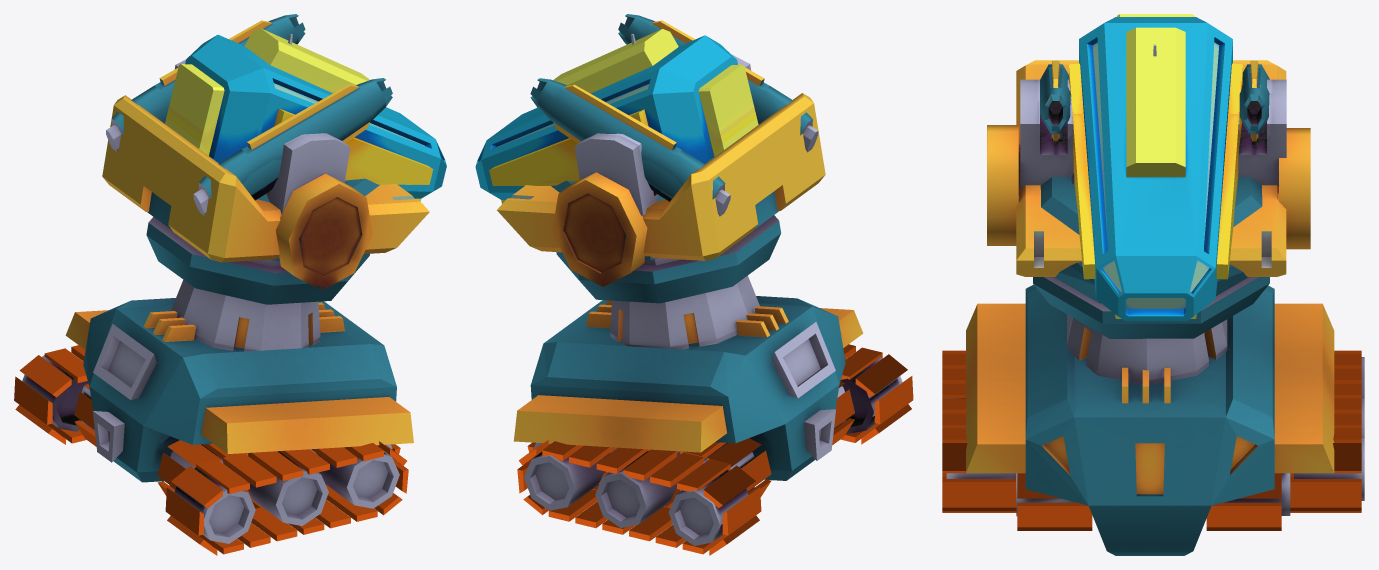
The model's file is Player_move_2_Upgrade7.obj.
The picture shows the model from 3 angles, left to right: view 1: azimuth 30°, elevation 25°; view 2: azimuth 150°, elevation 25°; view 3: azimuth 270°, elevation 25°; orthographic projection. The views are drawn at different scales.
Visible parts, largest first — view 1: Object015, Box020, Object014, Box018, Box019, Box017, Box016; view 2: Object015, Box019, Box018, Object014, Box020, Box016, Box017; view 3: Object015, Box019, Box020, Object014, Box017, Box016, Box018, Box009.
Boxes of the visible parts, x1,y1,x2,y2 form: Object015: [65, 28, 446, 482]; Box020: [165, 441, 408, 555]; Object014: [106, 14, 392, 215]; Box018: [22, 355, 399, 543]; Box019: [14, 345, 87, 444]; Box017: [157, 440, 400, 508]; Box016: [74, 383, 96, 446]; Object015: [475, 29, 863, 480]; Box019: [517, 439, 761, 555]; Box018: [524, 357, 902, 545]; Object014: [530, 14, 818, 216]; Box020: [840, 344, 913, 444]; Box016: [527, 438, 771, 507]; Box017: [832, 381, 854, 444]; Object015: [966, 14, 1334, 555]; Box019: [1290, 350, 1361, 512]; Box020: [942, 350, 1016, 512]; Object014: [1040, 60, 1269, 141]; Box017: [1017, 473, 1092, 530]; Box016: [1206, 473, 1281, 530]; Box018: [946, 357, 1364, 500]; Box009: [1016, 473, 1290, 516].
Size of the model in its own units: 70.38 by 88.9 by 68.55.
Materials: 6 (4 with a texture image).
